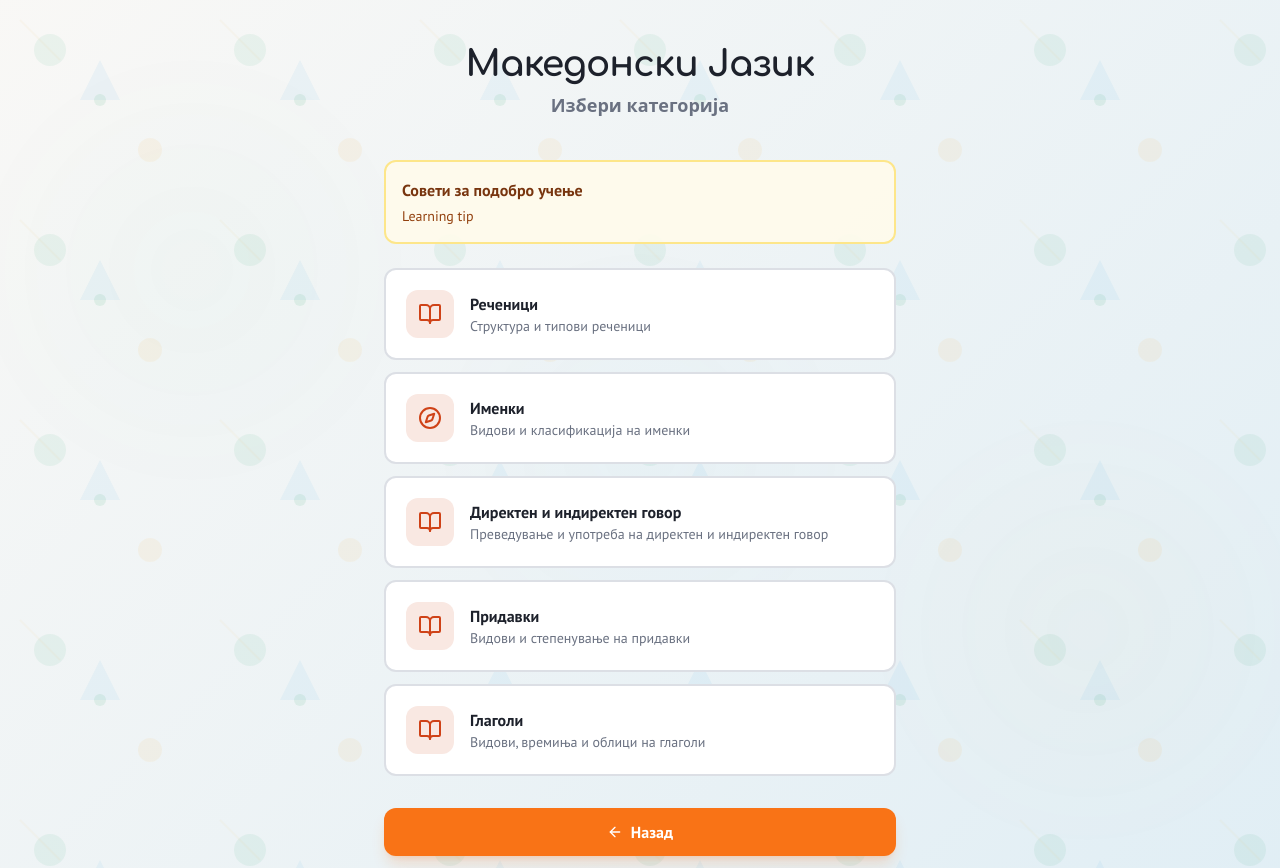
Test case: quiz mode navigation › opens encoded Cyrillic category links and preserves the category through a paper quiz
This screenshot has width=1280, height=868.
Click the link "Директен и индиректен говор" at (640, 522), box [384,476,896,568]
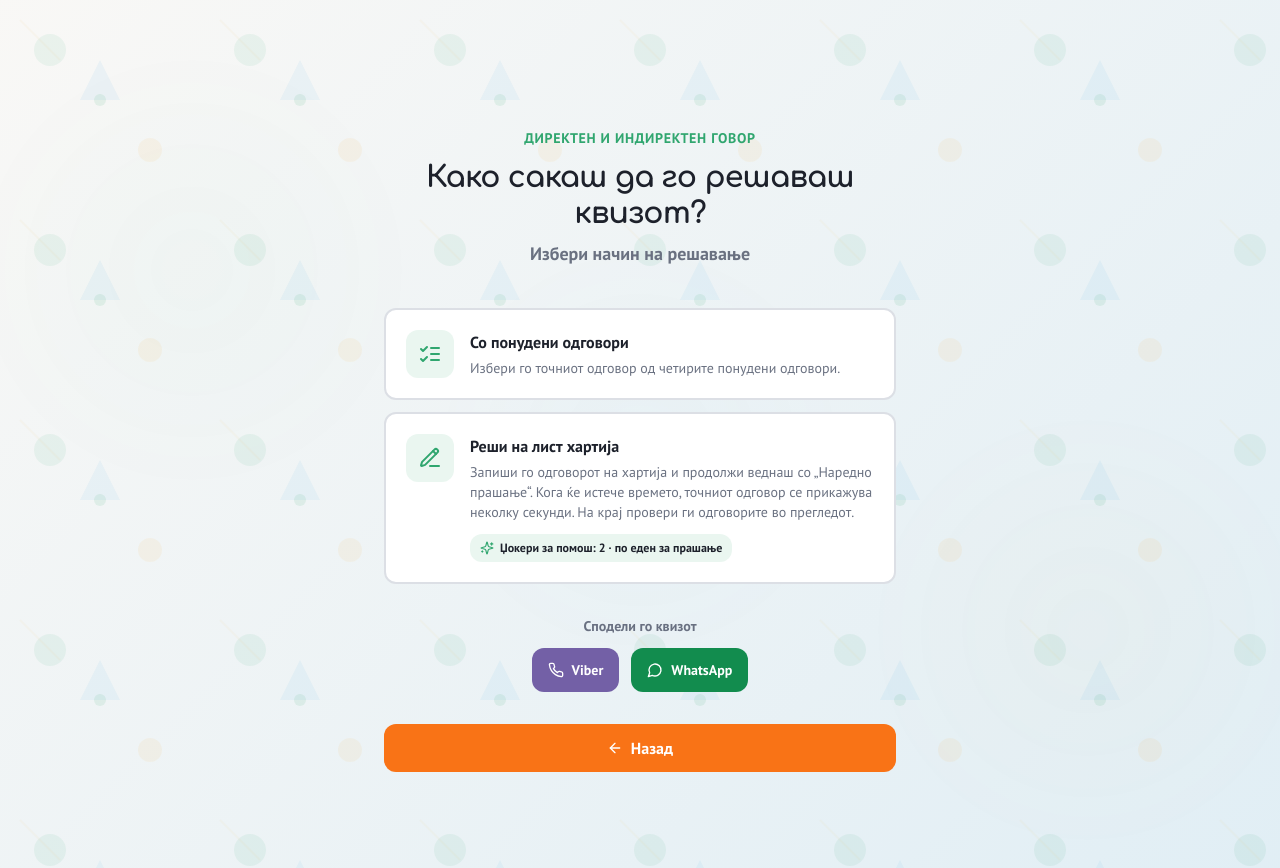
Expected: the heading "Како сакаш да го решаваш квизот?" is shown, [426,161,854,230]
Click the button "Реши на лист хартија" at (640, 498), box [384,412,896,584]
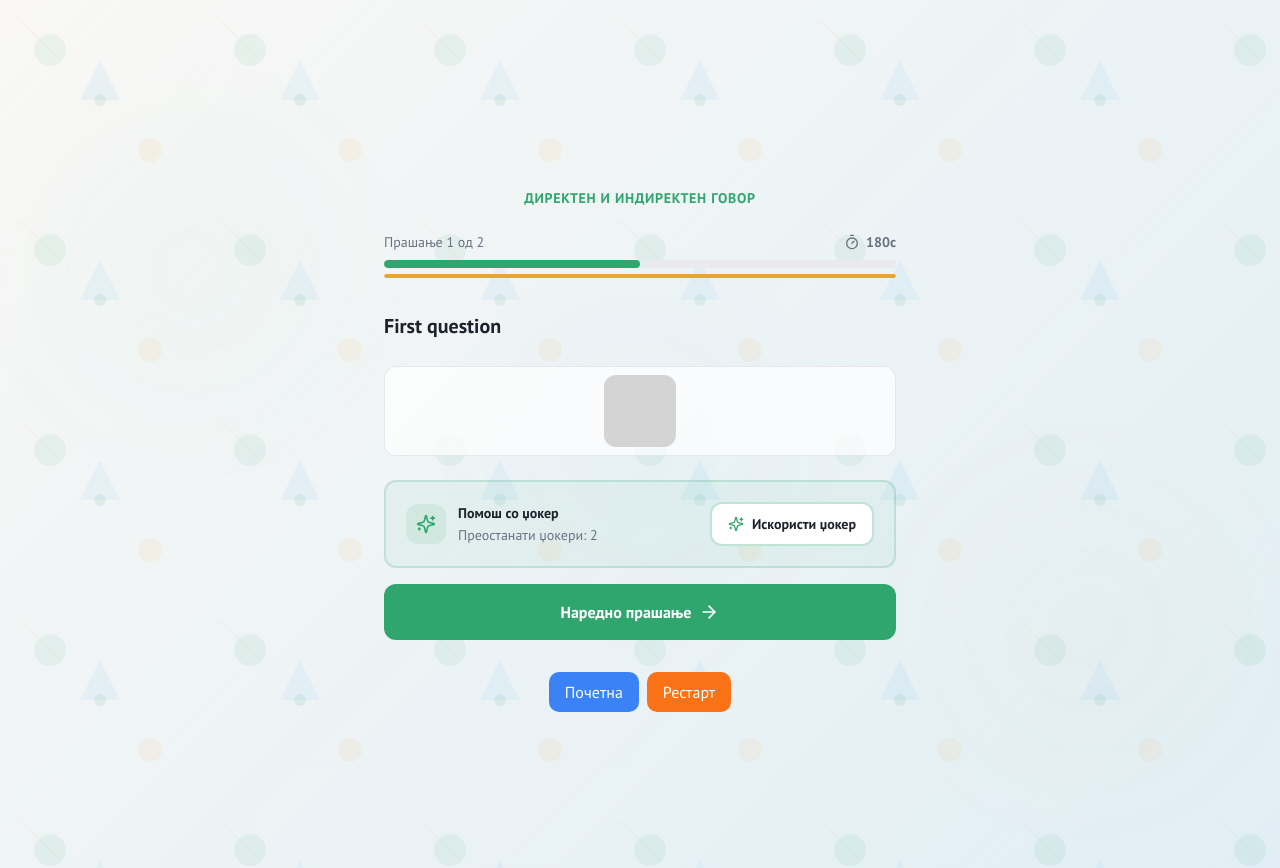
Expected: the text "Прашање 1 од 2" is shown, [384,232,484,252]
Click the button "Наредно прашање" at (640, 612), box [384,584,896,640]
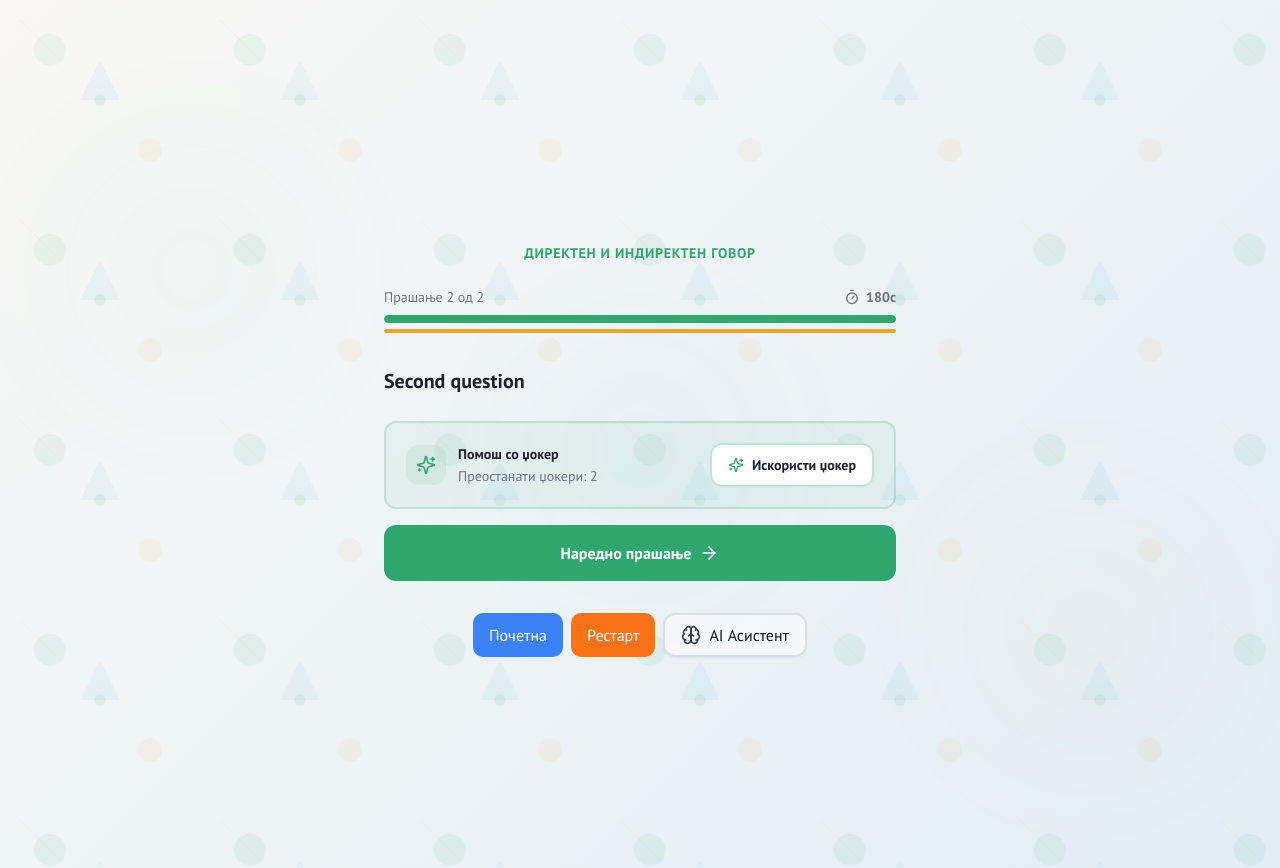
Click the button "Наредно прашање" at (640, 553), box [384,525,896,581]
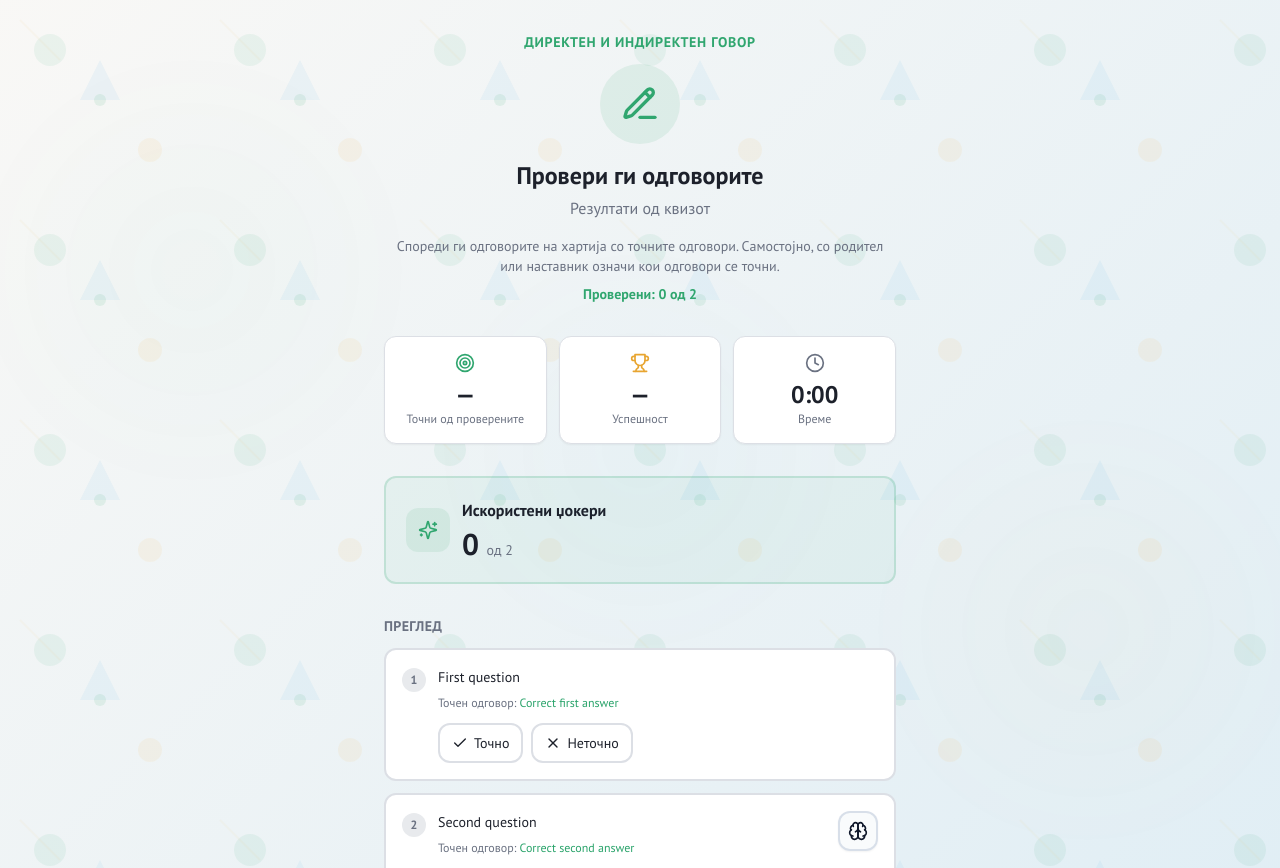
Expected: the text "Резултати од квизот" is shown, [570,198,710,218]
